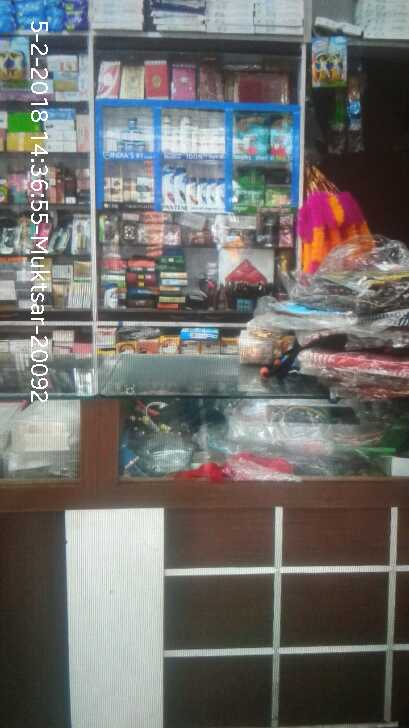vicks: (113, 116, 149, 158)
